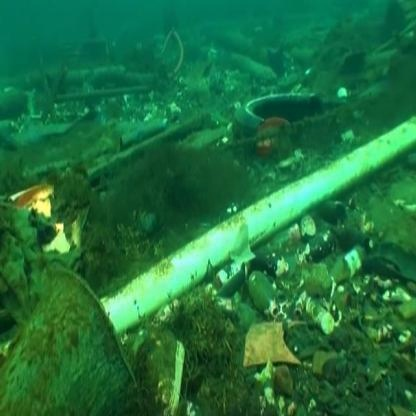rod: (74, 126, 416, 286)
tire: (223, 75, 349, 175)
